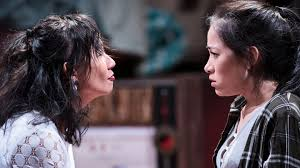asian_female: (193, 15, 277, 98)
